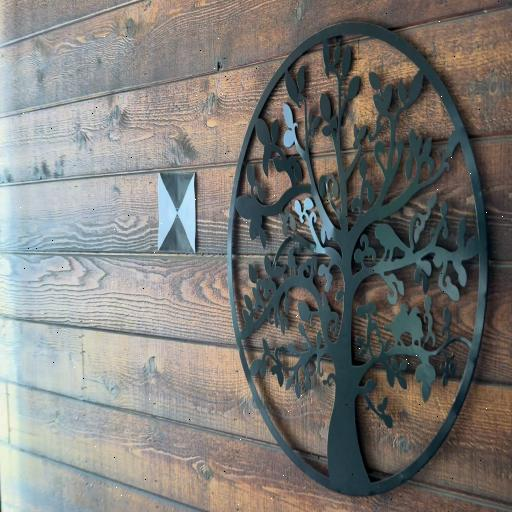target: (158, 173, 195, 252)
